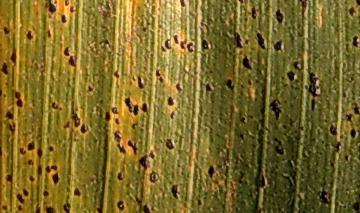tarspot: (305, 68, 320, 98), (69, 99, 81, 129), (269, 98, 283, 122), (315, 188, 331, 205), (273, 135, 284, 156), (255, 31, 267, 50), (126, 139, 139, 156), (13, 91, 25, 109), (138, 153, 149, 172), (8, 47, 19, 66), (274, 7, 284, 27), (123, 95, 133, 115), (232, 31, 243, 49), (148, 169, 160, 185), (241, 54, 252, 71), (170, 182, 180, 200), (78, 122, 91, 135), (272, 39, 284, 53), (257, 174, 268, 189), (47, 1, 58, 16), (291, 60, 304, 72), (115, 142, 127, 155), (140, 202, 153, 213), (350, 34, 360, 48), (164, 137, 174, 151), (51, 172, 61, 186), (285, 70, 296, 82), (328, 124, 338, 137), (200, 38, 210, 51), (67, 55, 77, 68), (113, 129, 123, 142), (136, 74, 144, 90), (4, 110, 15, 121), (115, 199, 125, 211), (207, 164, 215, 179), (138, 102, 148, 114), (62, 201, 72, 213), (15, 192, 25, 204), (331, 141, 341, 153), (225, 79, 234, 92), (186, 41, 195, 54), (179, 39, 188, 52), (249, 6, 257, 20), (36, 163, 44, 177), (72, 187, 82, 198), (21, 187, 31, 198), (351, 201, 360, 213), (347, 6, 356, 18), (166, 95, 175, 107), (62, 45, 71, 57), (25, 29, 34, 41), (7, 121, 16, 133), (35, 147, 44, 159), (26, 140, 35, 152), (349, 127, 357, 140), (164, 38, 172, 51), (132, 103, 140, 116), (133, 194, 143, 204), (344, 112, 353, 123), (299, 1, 308, 12), (17, 146, 26, 157), (116, 170, 123, 184), (309, 98, 316, 112), (172, 33, 179, 47), (168, 110, 176, 122), (60, 13, 68, 25), (1, 62, 9, 74), (104, 110, 112, 122), (5, 172, 12, 185), (237, 170, 243, 185), (68, 4, 77, 14), (287, 117, 296, 127), (352, 105, 360, 116), (204, 82, 212, 93), (175, 82, 183, 93), (34, 202, 42, 213), (113, 67, 121, 78), (238, 115, 247, 124), (49, 101, 58, 110), (147, 150, 155, 160), (44, 205, 54, 213), (49, 164, 59, 172), (86, 84, 94, 94), (63, 120, 71, 130), (46, 27, 52, 39), (2, 26, 10, 35), (44, 165, 52, 174), (28, 174, 36, 183), (111, 105, 119, 114), (94, 205, 103, 213), (154, 68, 161, 78), (113, 116, 120, 126), (324, 141, 331, 151), (41, 190, 49, 198), (47, 145, 55, 153), (26, 158, 34, 166), (131, 122, 139, 130), (16, 203, 23, 212), (328, 158, 335, 167), (297, 125, 306, 132), (159, 44, 165, 54), (238, 132, 245, 140), (343, 154, 350, 162), (281, 123, 288, 131), (103, 37, 109, 46), (238, 89, 244, 98), (341, 89, 347, 98), (243, 38, 250, 45), (238, 83, 245, 90), (196, 198, 202, 206), (158, 75, 164, 83), (141, 25, 147, 33), (246, 78, 252, 86), (248, 113, 254, 121), (179, 1, 185, 8), (63, 1, 70, 7), (322, 118, 329, 124), (292, 127, 297, 135), (254, 79, 262, 84), (291, 95, 297, 101), (253, 96, 258, 103), (237, 1, 245, 5), (355, 1, 360, 7), (1, 145, 3, 160), (2, 205, 8, 210), (320, 139, 325, 145), (280, 75, 285, 81), (223, 1, 231, 4), (1, 88, 3, 99)
